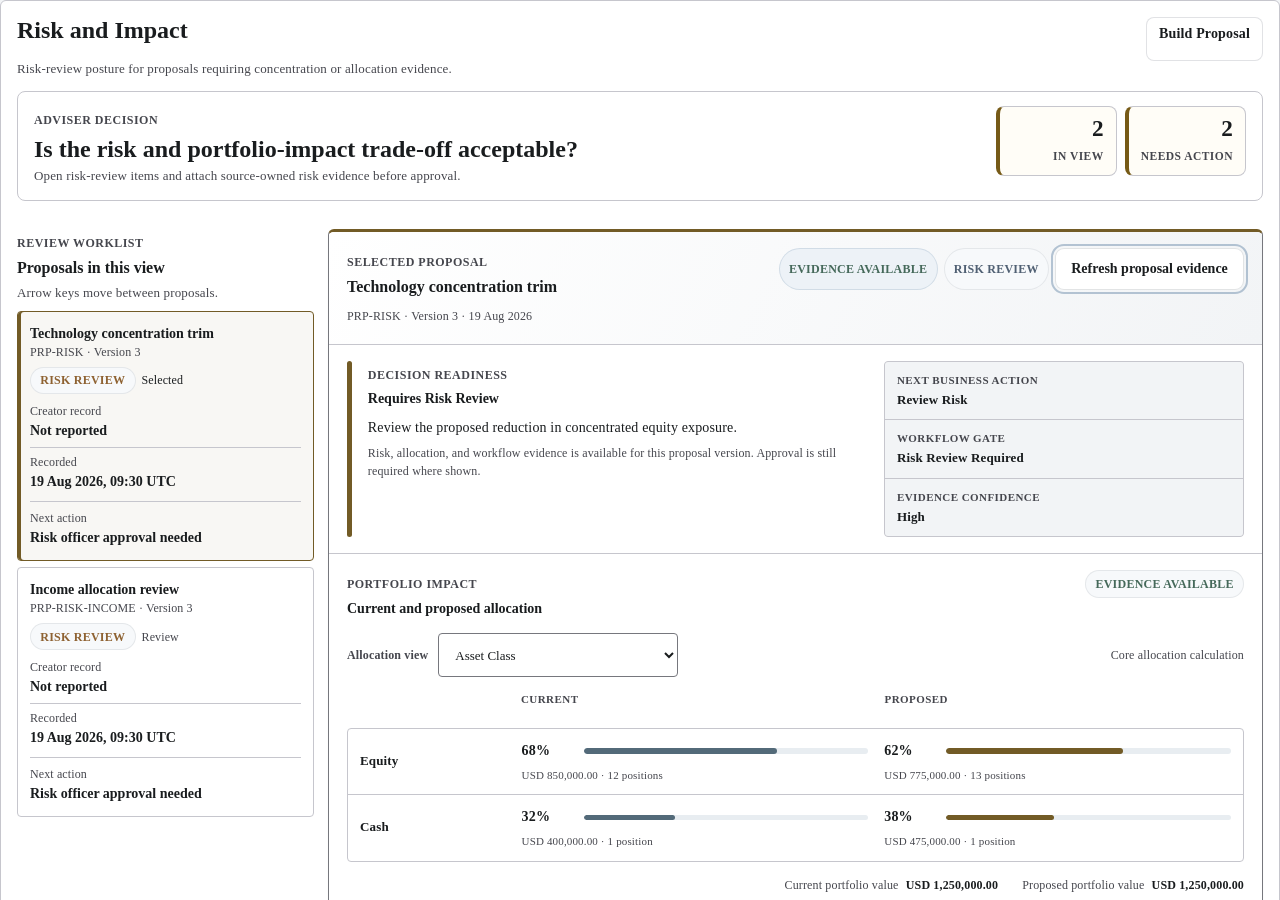
Test: ProposalLifecycleWorkspace › does not move focus back to a refresh control after the advisor changes selection
Click the button "Refresh proposal evidence". click: point(1150, 269)
box: [1055, 248, 1244, 290]
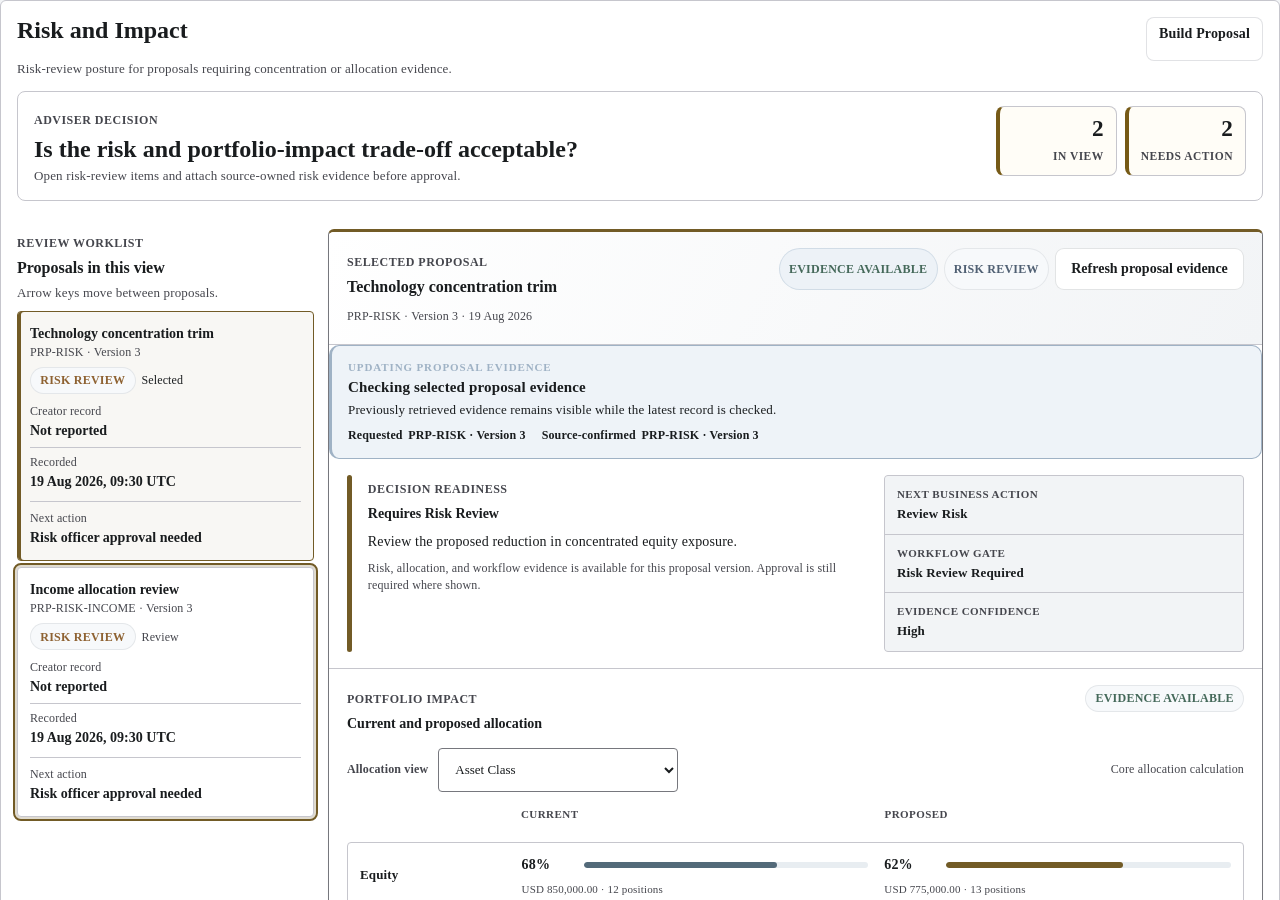
Click the option "Income allocation review". click: point(166, 692)
box: [17, 567, 314, 817]
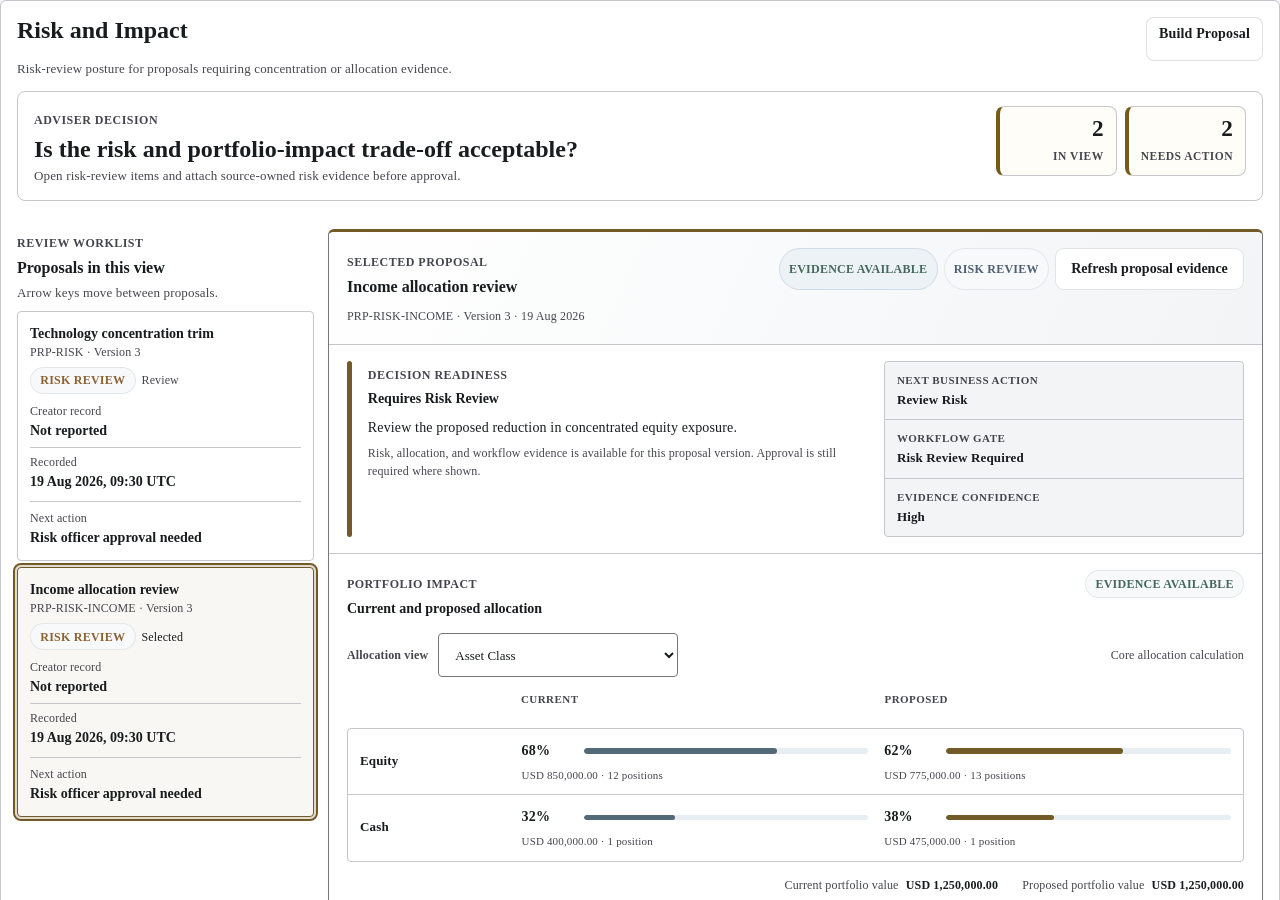
Expected: the heading "Income allocation review" is shown, [347, 278, 517, 295]
Expected: the message with test id "workbench-refresh-status" is gone
